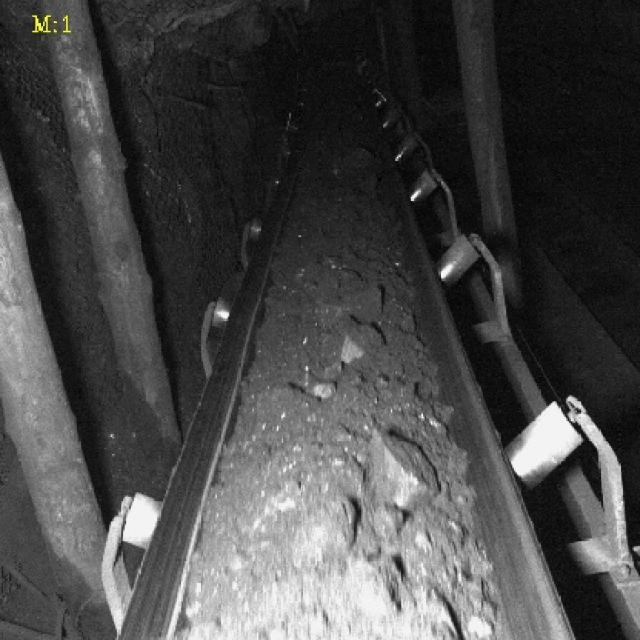large_sized_coal: (368, 428, 438, 506), (290, 495, 356, 571), (314, 286, 384, 329), (342, 326, 386, 363)
